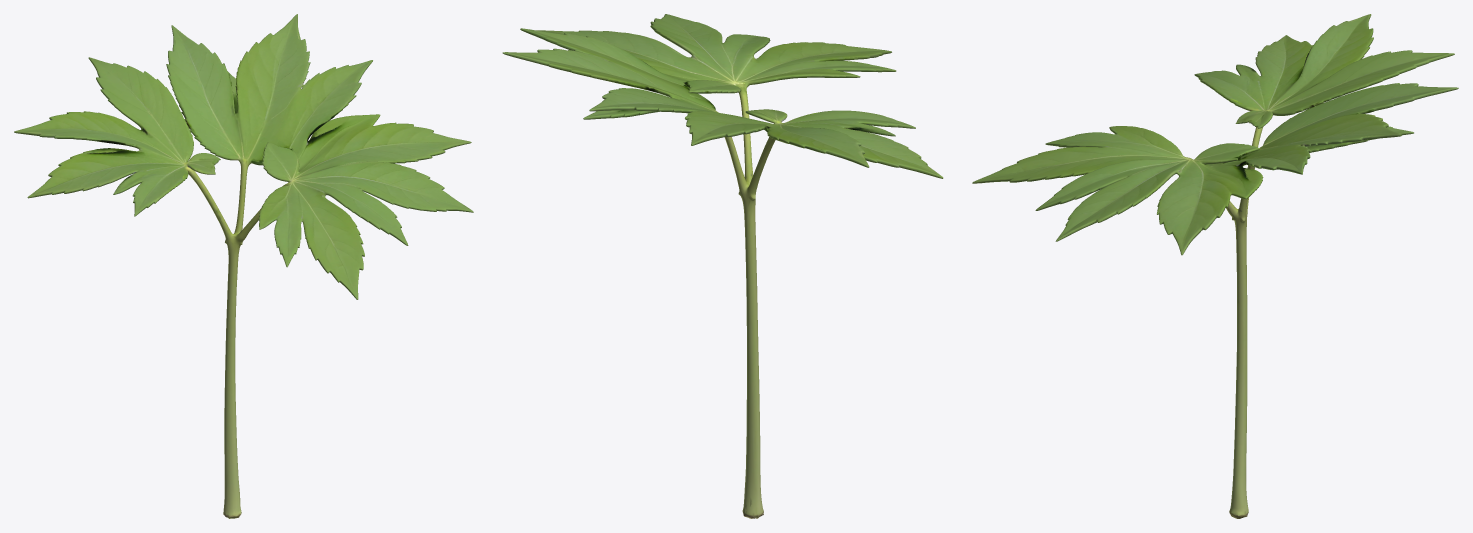
The model's file is wujiapi.glb.
3 views of the same model, side by side, from view 1: azimuth 30°, elevation 25°; view 2: azimuth 150°, elevation 25°; view 3: azimuth 270°, elevation 25° (orthographic). The views are drawn at different scales.
Parts seen in each view (by area): view 1: node_0; view 2: node_0; view 3: node_0.
Boxes of the visible parts, x1,y1,x2,y2 form: node_0: [14, 14, 473, 518]; node_0: [502, 14, 943, 518]; node_0: [972, 14, 1458, 518].
Bounding box in the file's own units: 0.8607 × 0.8611 × 0.8335.
Materials: 1 (1 with a texture image).
